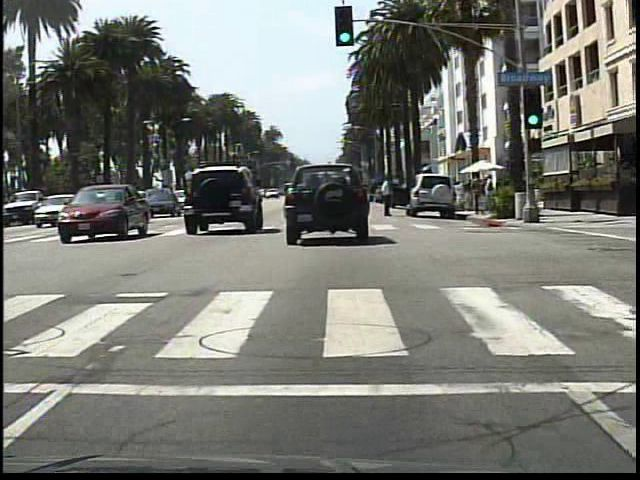person: (376, 169, 399, 220)
